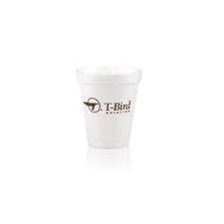paper_cup: (72, 59, 145, 152)
